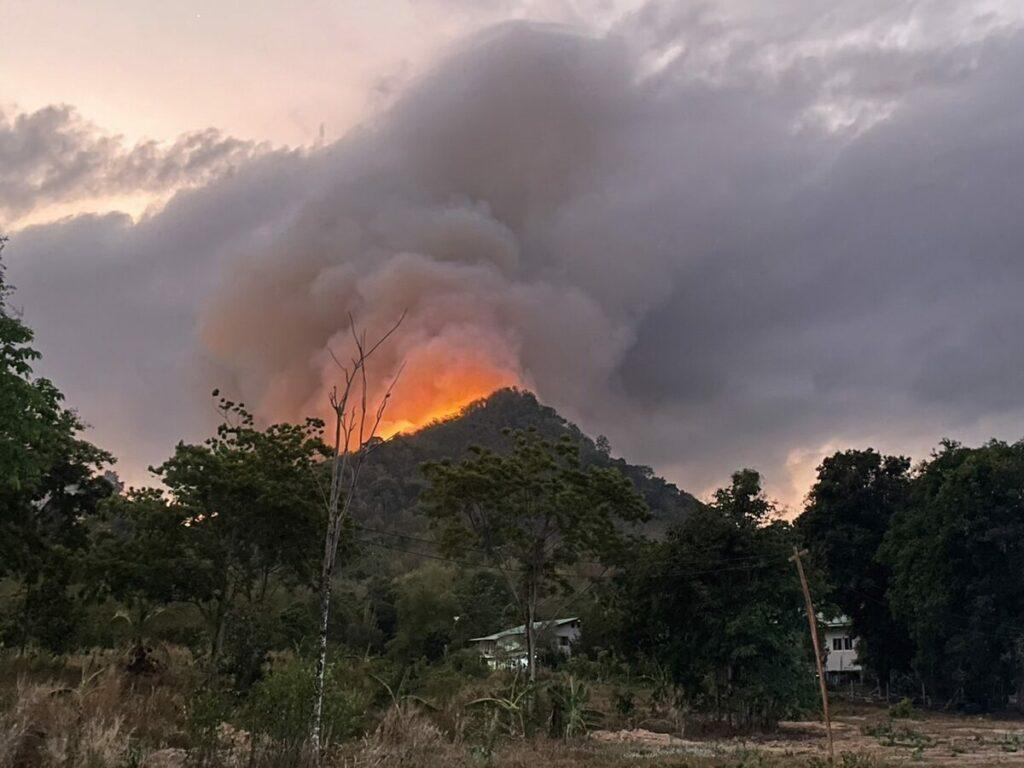fire: (249, 246, 583, 480)
